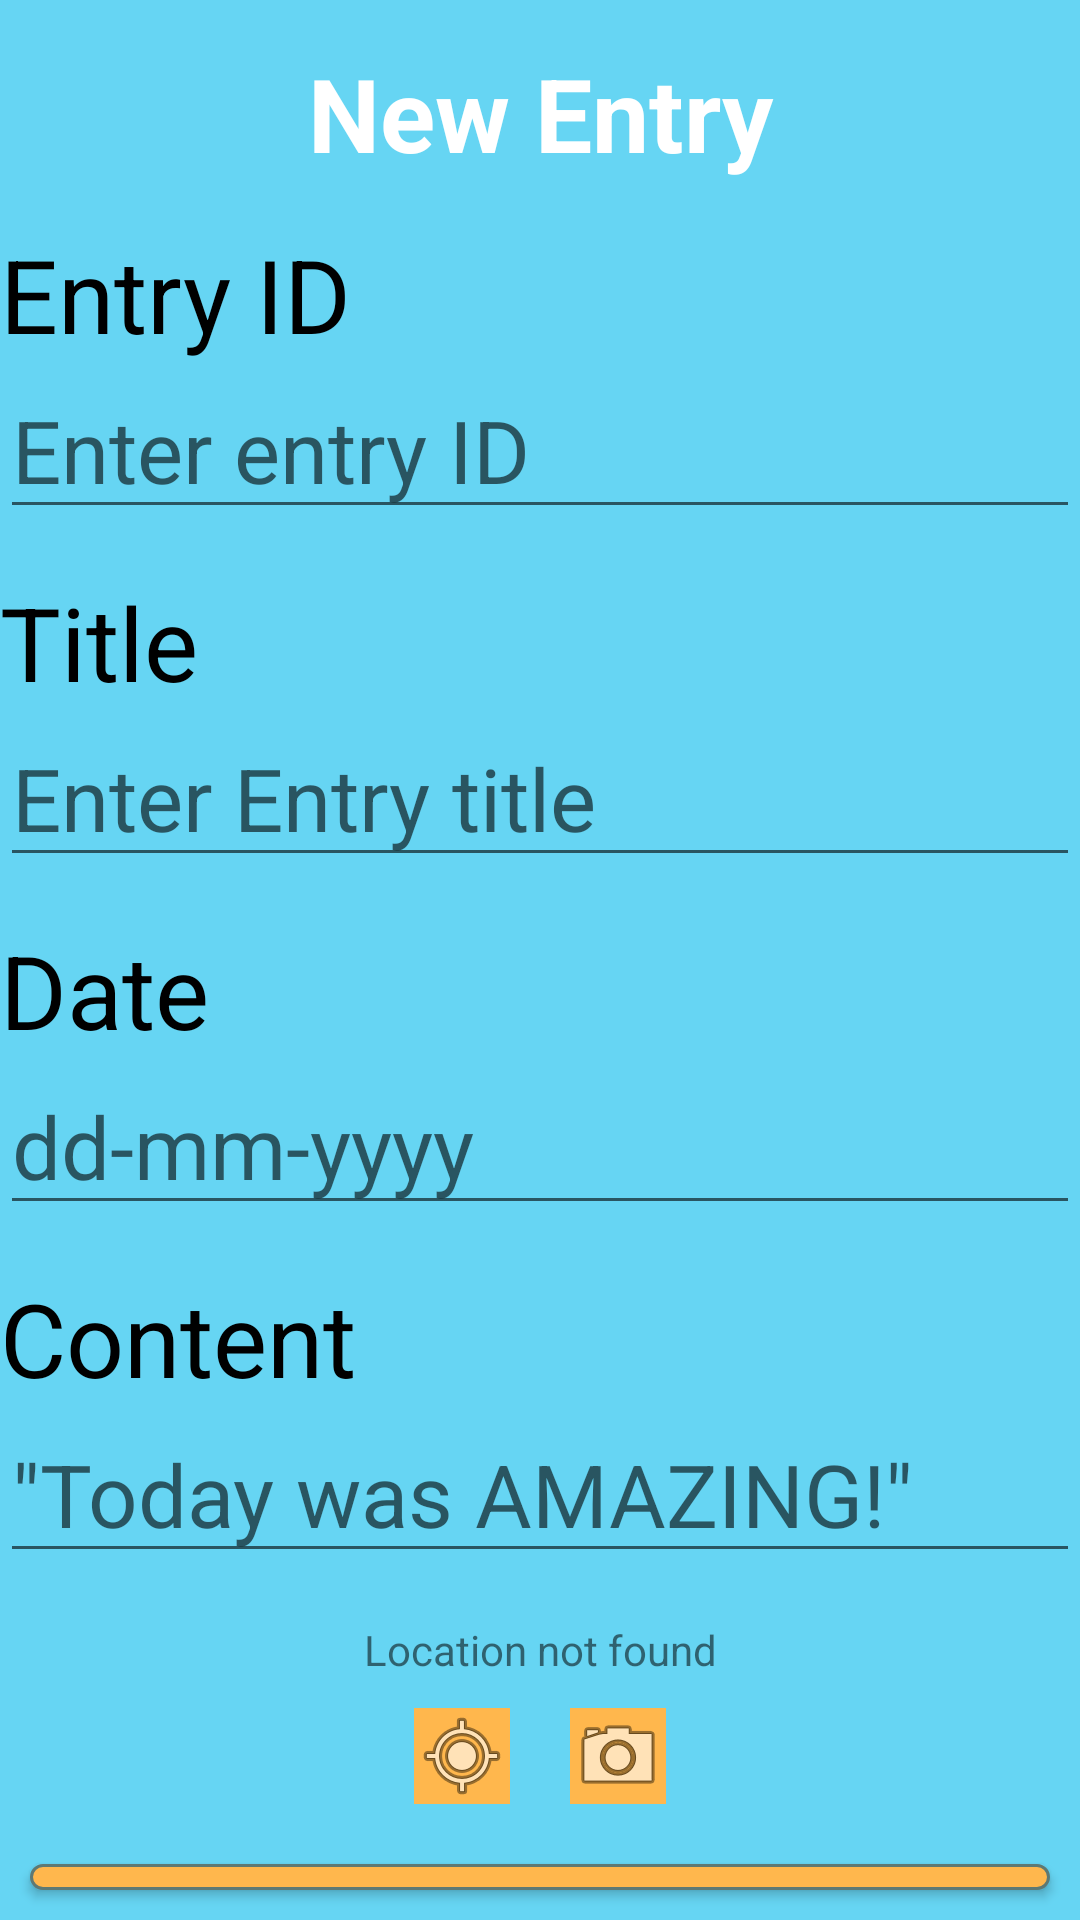

Named icons in this screenshot (1080*1920) and their centers, point (x, y):
Camera button: point (618, 1756)
mylocation: point (462, 1756)
